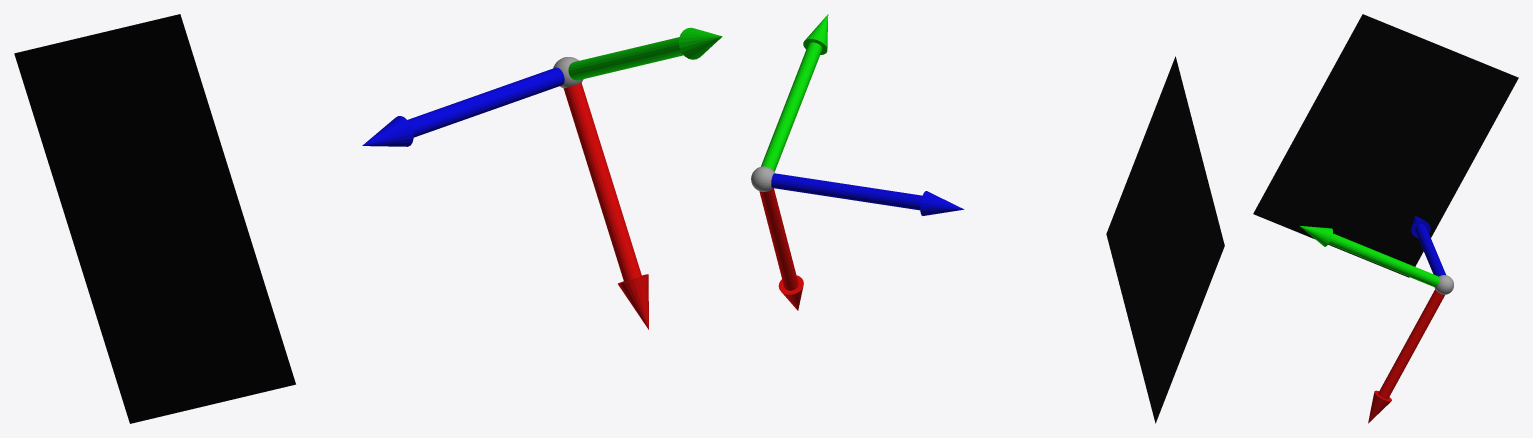
3 renders of one model, left to right at view 1: azimuth 30°, elevation 25°; view 2: azimuth 150°, elevation 25°; view 3: azimuth 270°, elevation 25°, orthographic. The views are drawn at different scales.
Size of the model in its own units: 0.2867 by 0.2221 by 0.1999.
